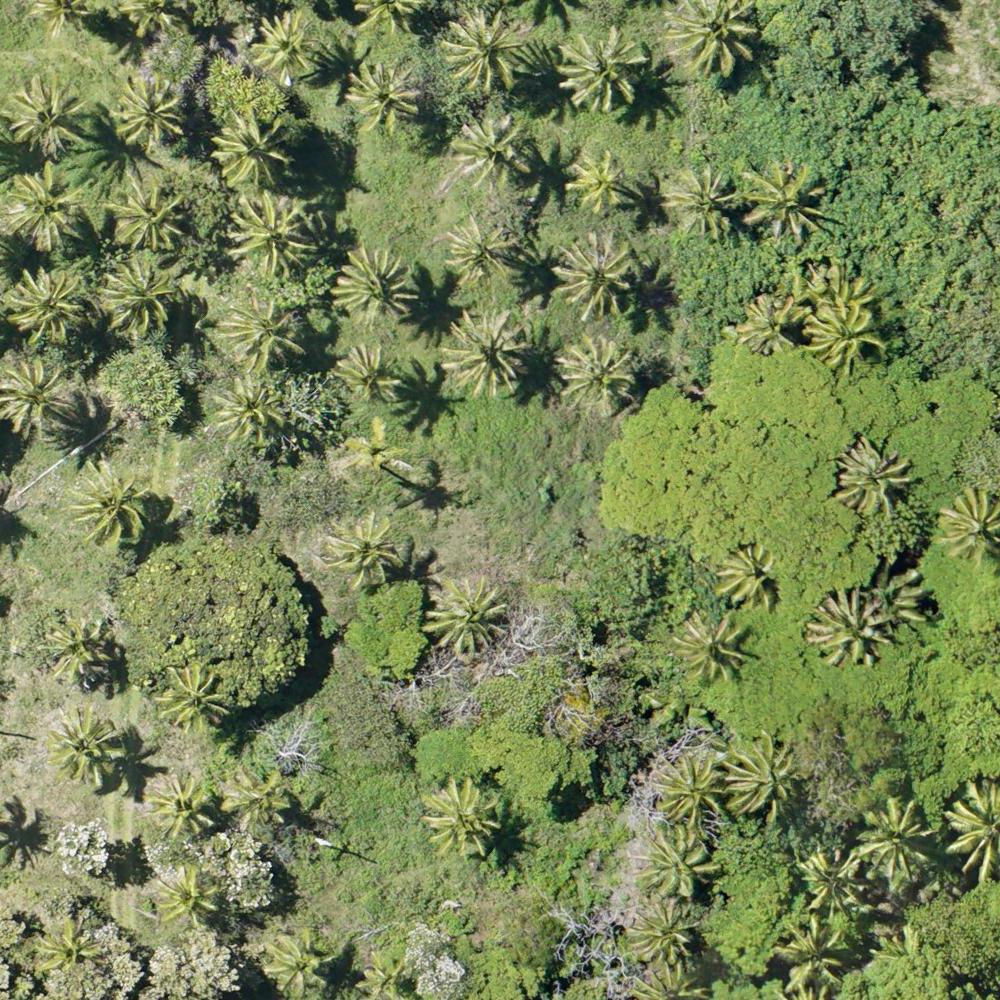not plam: (809, 6, 895, 89), (915, 110, 994, 197), (630, 411, 716, 484), (518, 424, 604, 495), (916, 217, 1000, 289), (618, 506, 698, 581), (727, 371, 808, 445), (541, 609, 617, 685), (916, 321, 988, 401), (917, 13, 994, 85), (122, 356, 197, 429), (196, 551, 273, 621), (734, 459, 813, 527), (141, 942, 235, 998), (186, 472, 256, 546), (525, 742, 596, 813), (329, 854, 402, 921), (51, 819, 113, 878)
